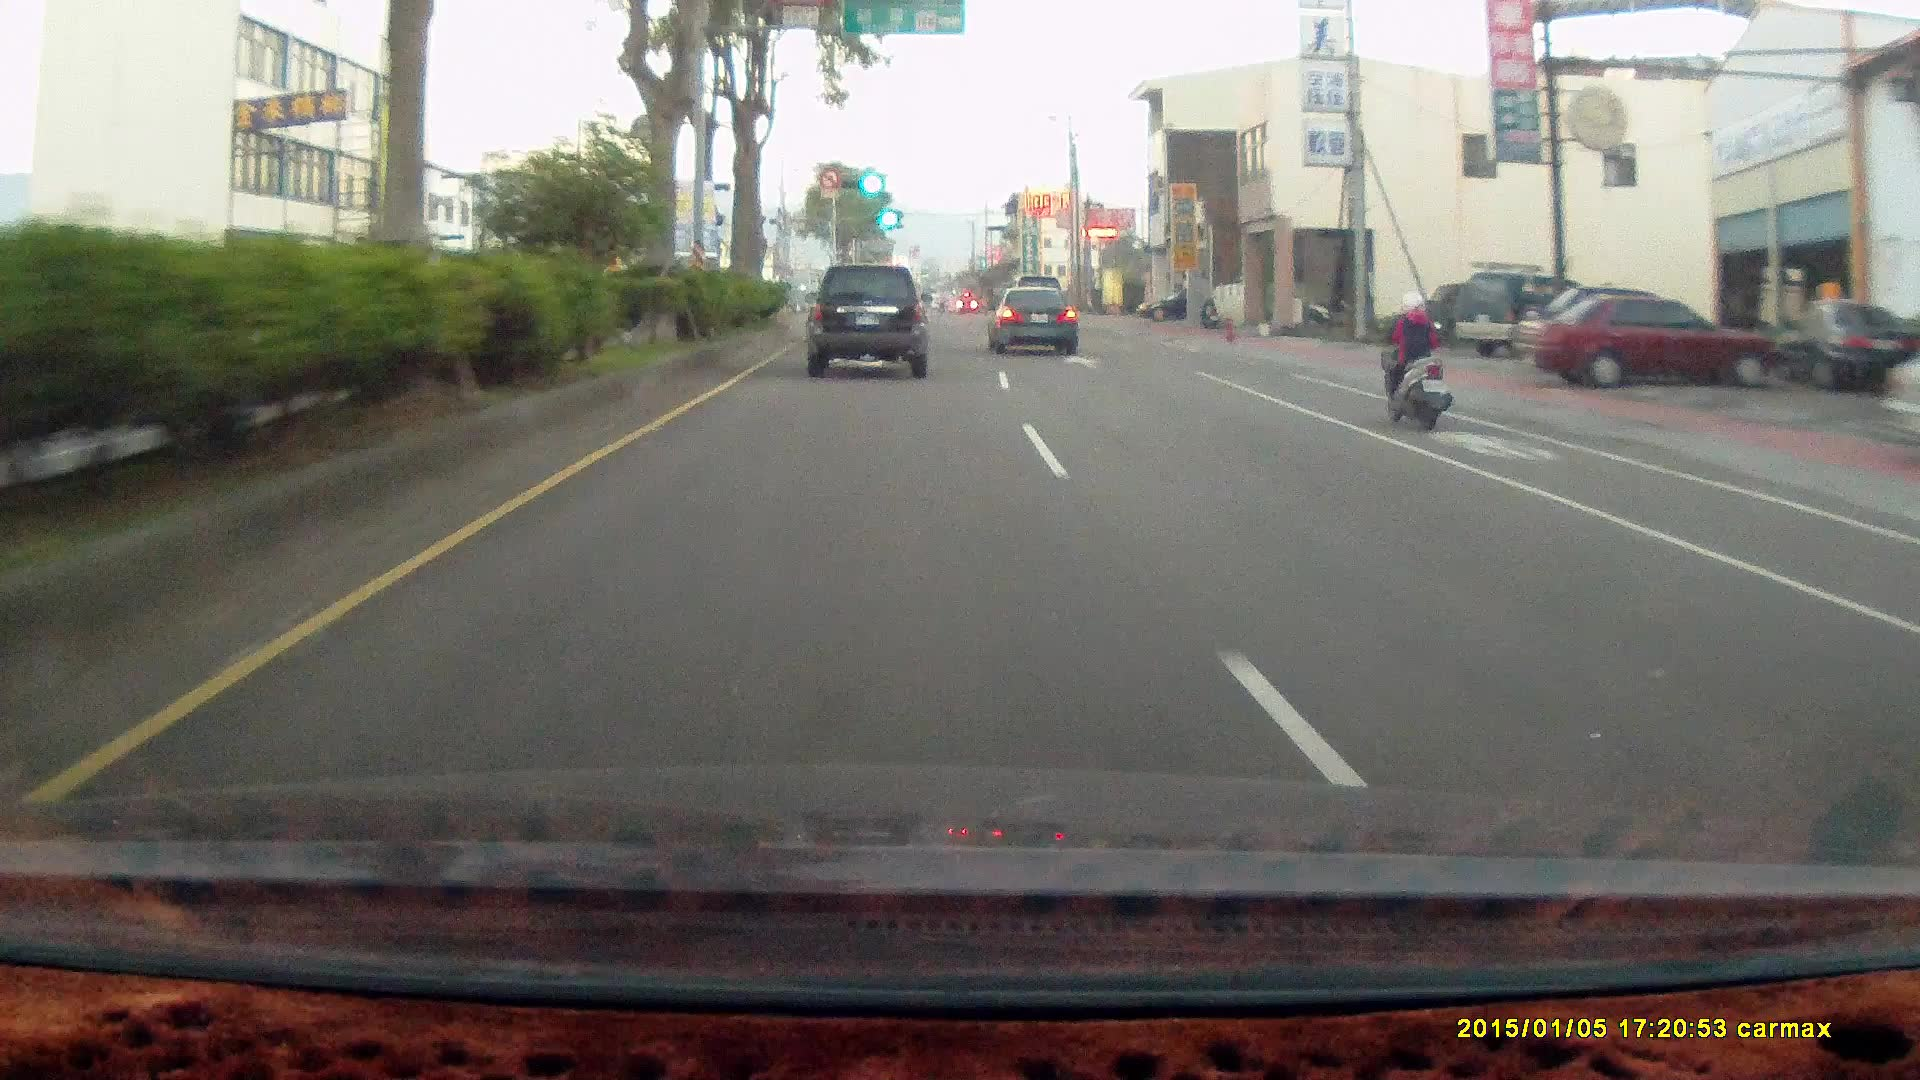rider: (1361, 281, 1467, 441), (1375, 290, 1450, 432)
vehicle: (1514, 294, 1780, 389), (1527, 297, 1758, 398), (807, 263, 931, 377), (808, 270, 932, 384), (1762, 300, 1915, 389), (1452, 272, 1602, 360), (1454, 273, 1592, 363), (987, 286, 1080, 355), (986, 285, 1077, 355), (1135, 287, 1217, 322)
